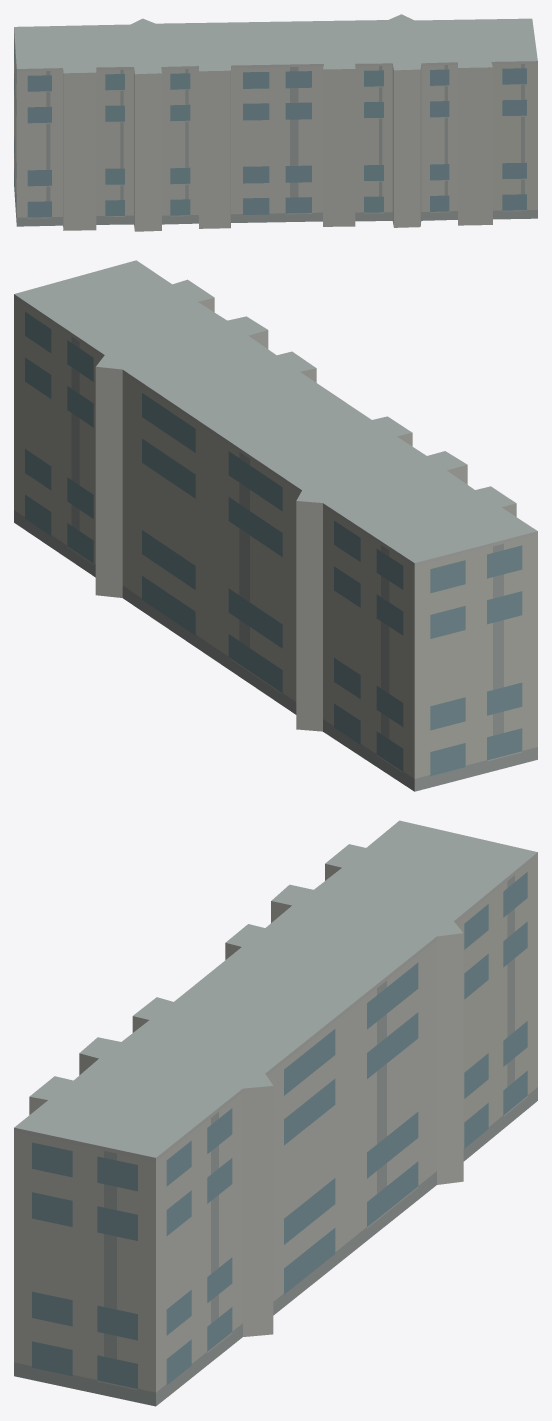
The model's file is survey-upis-32851713.glb.
3 renders of one model, top to bottom at view 1: azimuth 30°, elevation 25°; view 2: azimuth 150°, elevation 25°; view 3: azimuth 270°, elevation 25°, orthographic. The views are drawn at different scales.
Parts seen in each view (by area): view 1: survey-upis-32851713.tmp; view 2: survey-upis-32851713.tmp; view 3: survey-upis-32851713.tmp.
Part boxes in pixels (<box>): survey-upis-32851713.tmp: <box>14,14,537,231</box>; survey-upis-32851713.tmp: <box>14,260,537,791</box>; survey-upis-32851713.tmp: <box>14,820,537,1406</box>.
Bounding box in the file's own units: 44.41 × 15.25 × 29.14.
